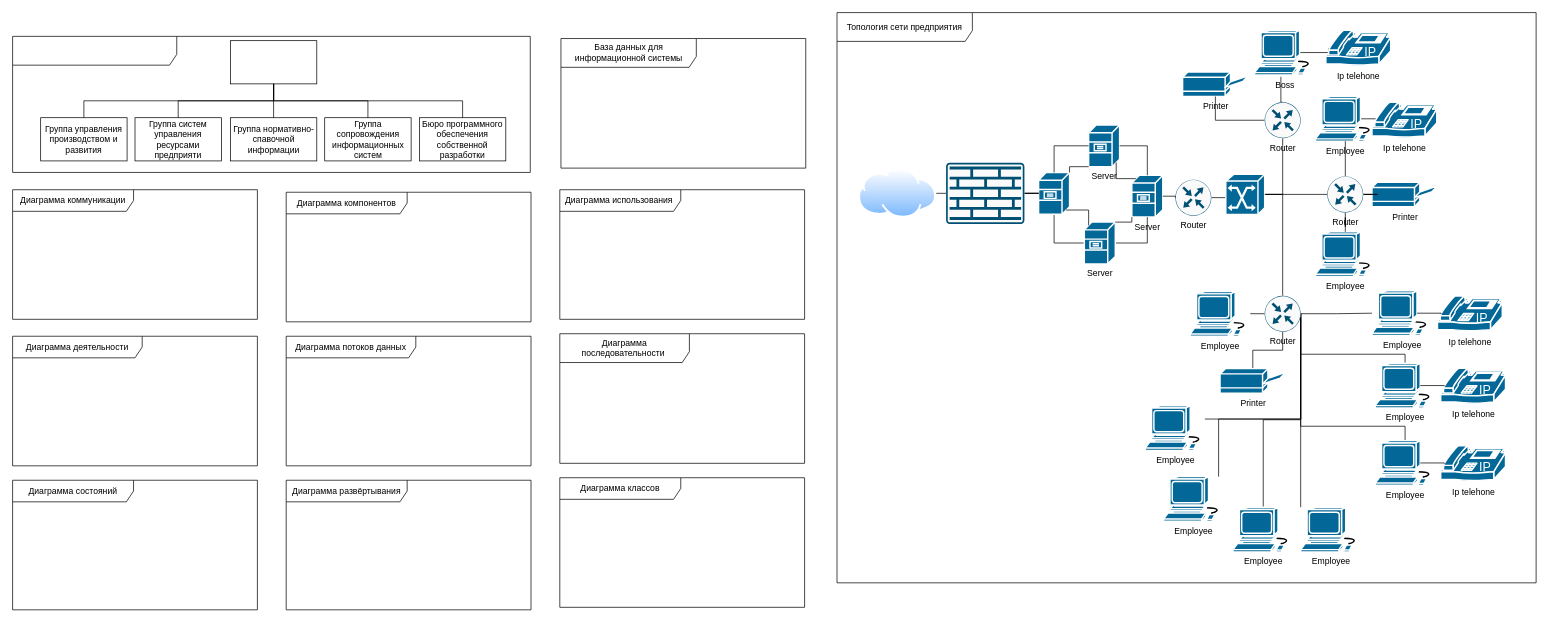
Some shapes in this 1549 by 623 pixel diagram are drawn without their labels. The shapes that lost their labels are listed below. From the top down, each one's box as (x1, y1, x2, y2) in pixels, then its label:
(230, 40, 317, 84): Отел информационных систем
(12, 36, 530, 172): Структура информационного отдела предприятия
(858, 168, 936, 217): Internet
(945, 162, 1024, 224): Firewall
(1038, 171, 1070, 215): Internet Server
(1225, 173, 1265, 215): Switch
